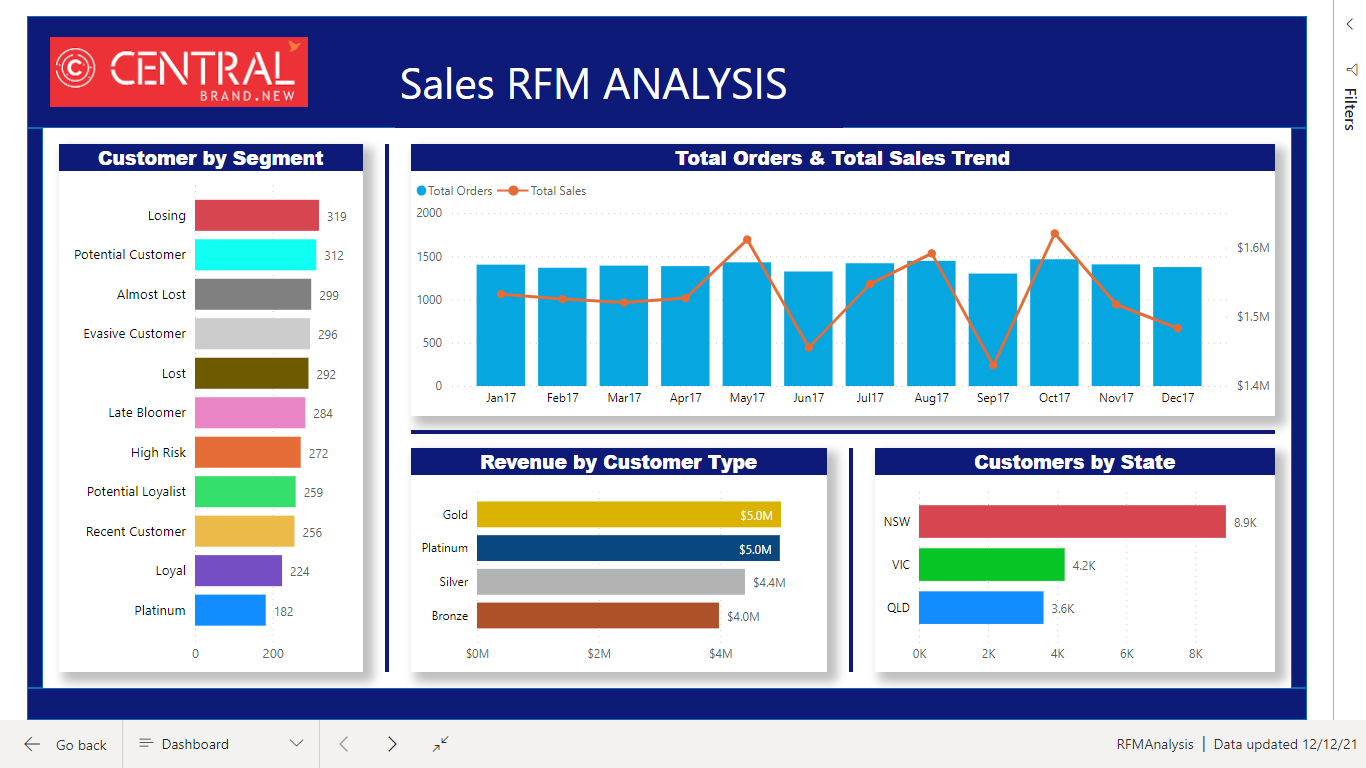

The page's visual inventory and layout, read from the dashboard file:
{"tool":"powerbi","page":{"name":"Dashboard","canvas":[1280,720],"ordinal":0},"visuals":[{"type":"clusteredBarChart","title":"Revenue by Customer Type","fields":{"Category":["RFM Table.Customer Type"],"Y":["__DAX Measures.Total Sales"]},"box":[384,448,416,224],"z":0},{"type":"clusteredBarChart","title":"Customer by Segment","fields":{"Category":["RFM Table.Customer Segment"],"Y":["CountNonNull(RFM Table.customer_id)"]},"box":[32,144,304,528],"z":1000},{"type":"lineClusteredColumnComboChart","title":"Total Orders & Total Sales Trend","fields":{"Category":["Calendar.MonthYear"],"Y":["__DAX Measures.Total Orders"],"Y2":["__DAX Measures.Total Sales"]},"box":[384,144,864,272],"z":2000},{"type":"shape","box":[0,16,1280,112],"z":3000},{"type":"image","box":[16,32,272,80],"z":4000},{"type":"shape","box":[0,688,1280,32],"z":5000},{"type":"shape","box":[816,448,16,224],"z":6000},{"type":"shape","box":[352,144,16,528],"z":7000},{"type":"shape","box":[384,416,864,32],"z":8000},{"type":"shape","box":[0,128,16,560],"z":9000},{"type":"shape","box":[1264,128,16,560],"z":10000},{"type":"textbox","box":[368,48,448,80],"z":11000},{"type":"clusteredBarChart","title":"Customers by State","fields":{"Category":["d-CustomerDemographic.state"],"Y":["CountNonNull(f-Transactions.customer_id)"]},"box":[848,448,400,224],"z":12000}]}

Visuals, with their boxes in screenshot pixels (x1, y1, x2, y2):
"Revenue by Customer Type" clusteredBarChart: (x1=397, y1=448, x2=819, y2=675)
"Customer by Segment" clusteredBarChart: (x1=40, y1=139, x2=348, y2=675)
"Total Orders & Total Sales Trend" lineClusteredColumnComboChart: (x1=397, y1=139, x2=1274, y2=415)
shape: (x1=7, y1=9, x2=1306, y2=123)
image: (x1=23, y1=25, x2=299, y2=107)
shape: (x1=7, y1=691, x2=1306, y2=724)
shape: (x1=835, y1=448, x2=852, y2=675)
shape: (x1=364, y1=139, x2=381, y2=675)
shape: (x1=397, y1=415, x2=1274, y2=448)
shape: (x1=7, y1=123, x2=23, y2=691)
shape: (x1=1290, y1=123, x2=1306, y2=691)
textbox: (x1=381, y1=42, x2=835, y2=123)
"Customers by State" clusteredBarChart: (x1=868, y1=448, x2=1274, y2=675)
